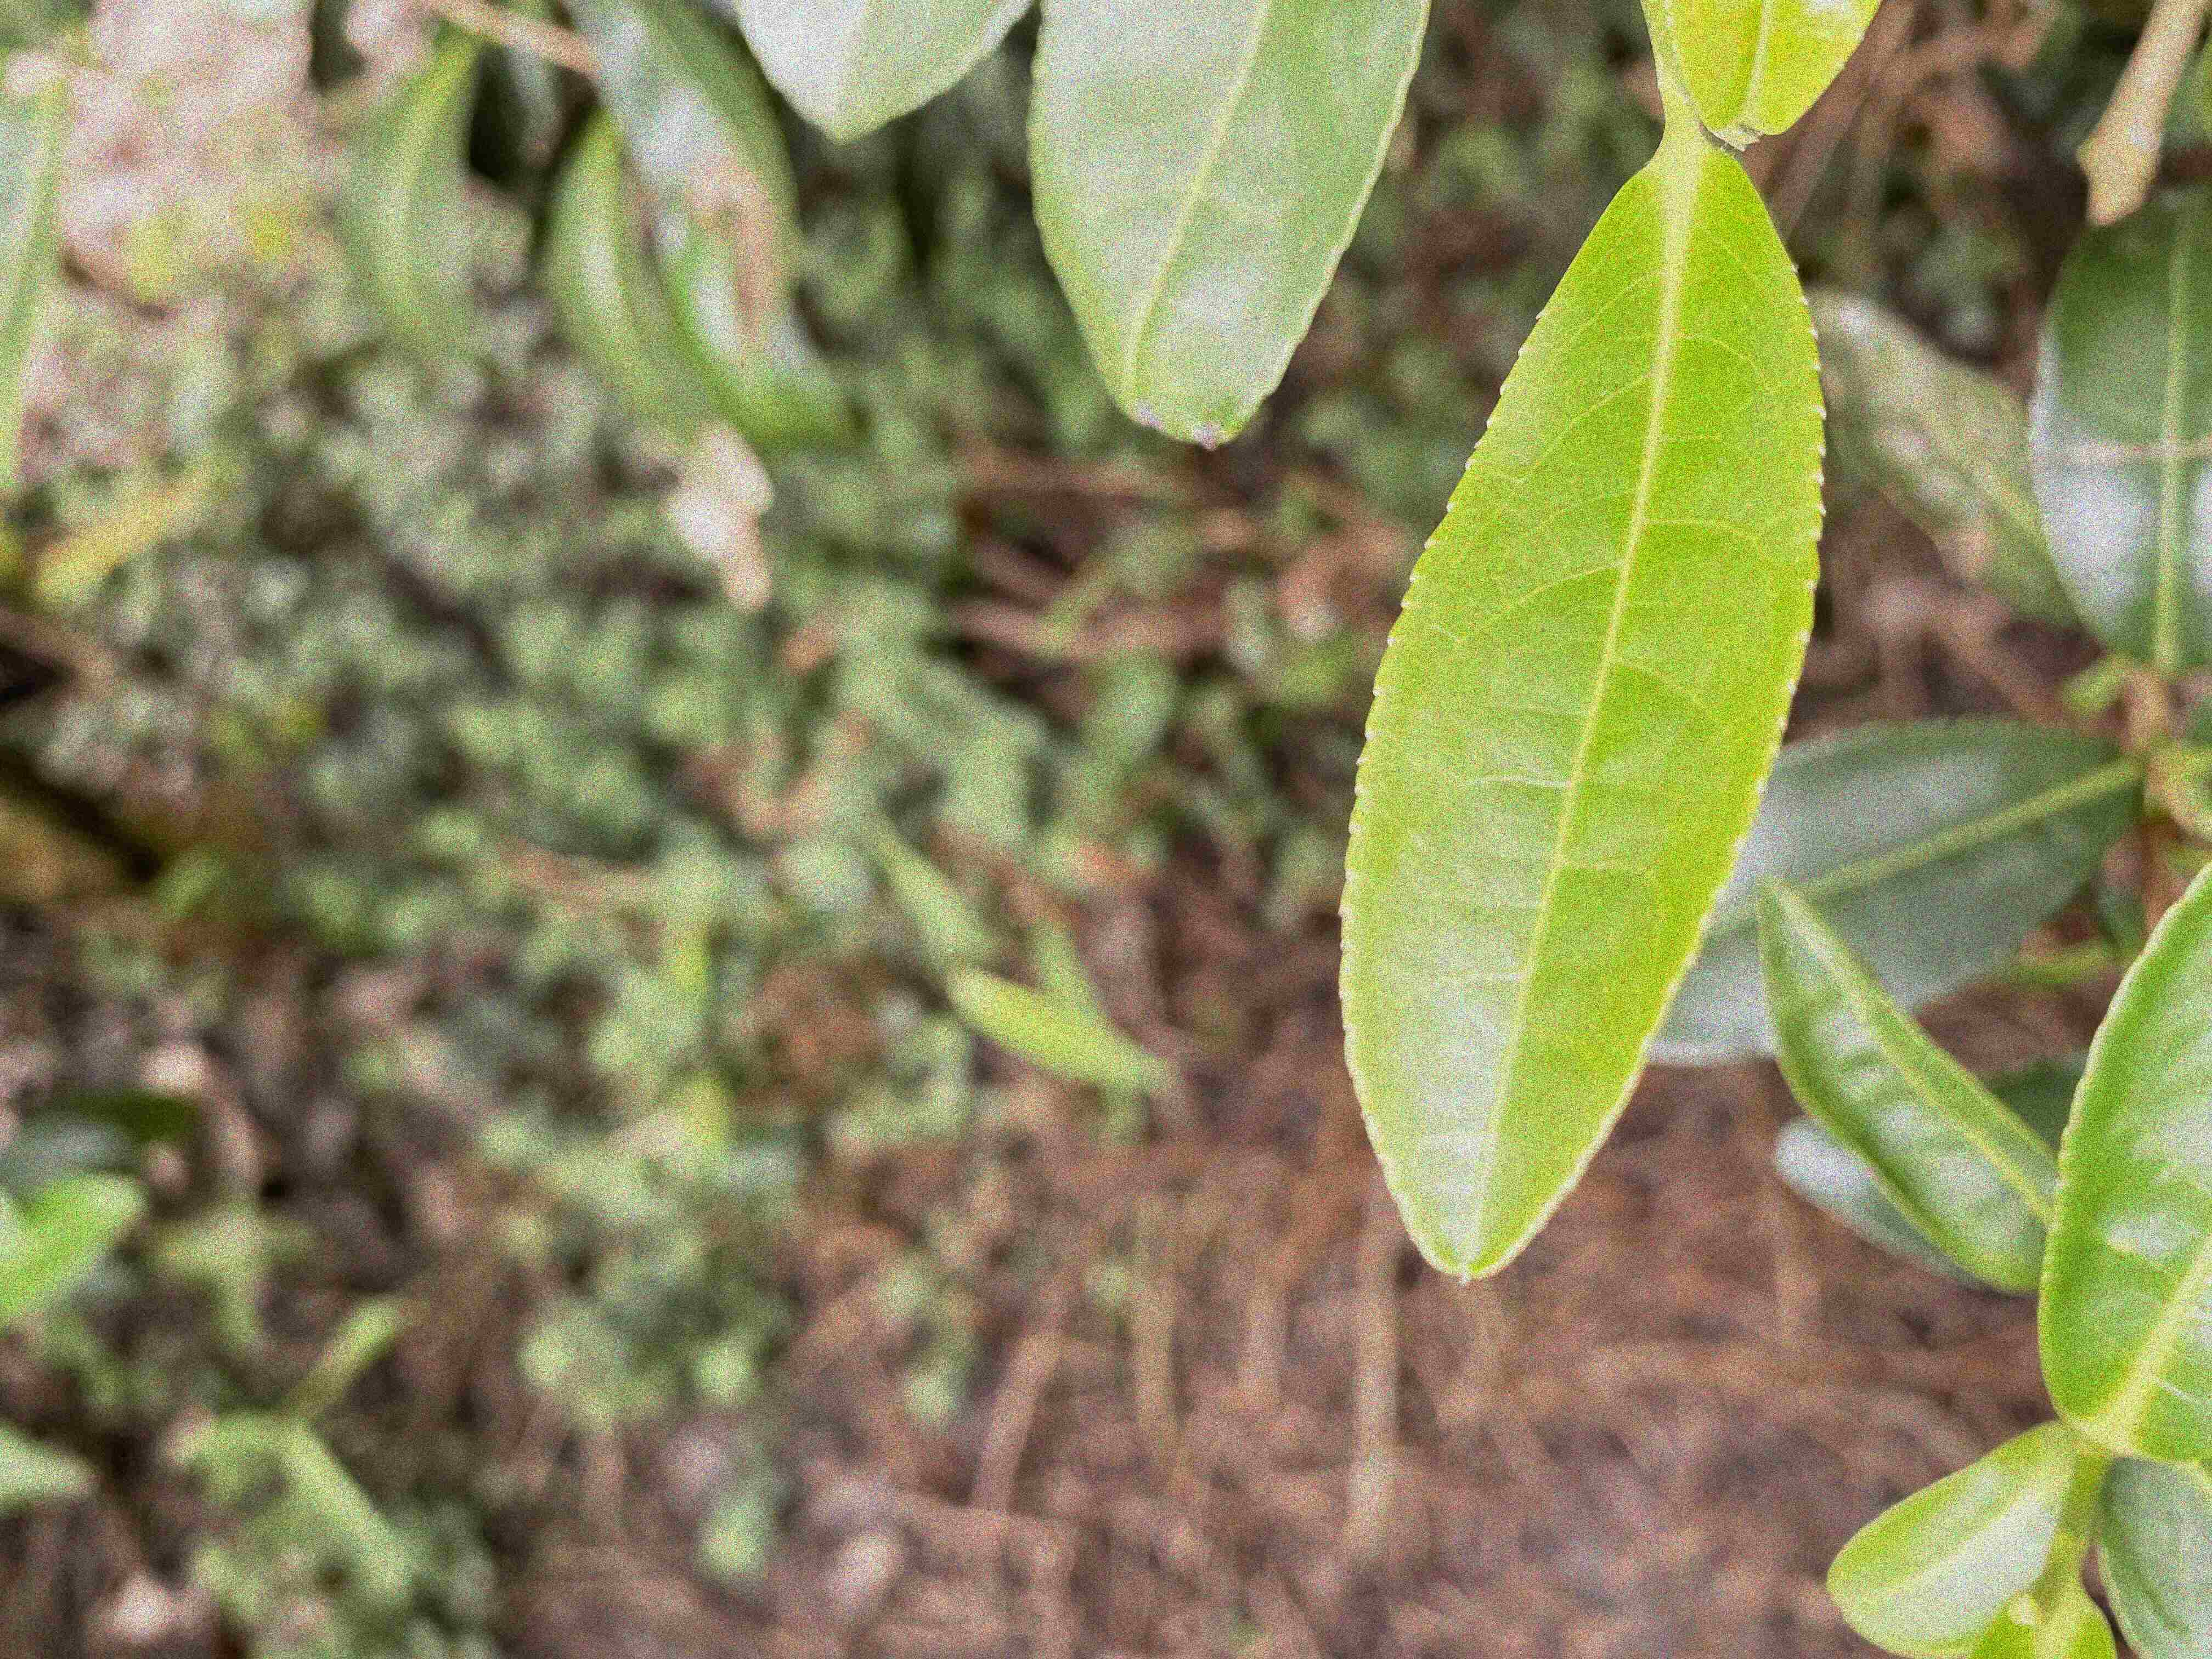healthy: (1331, 150, 1832, 1286)
